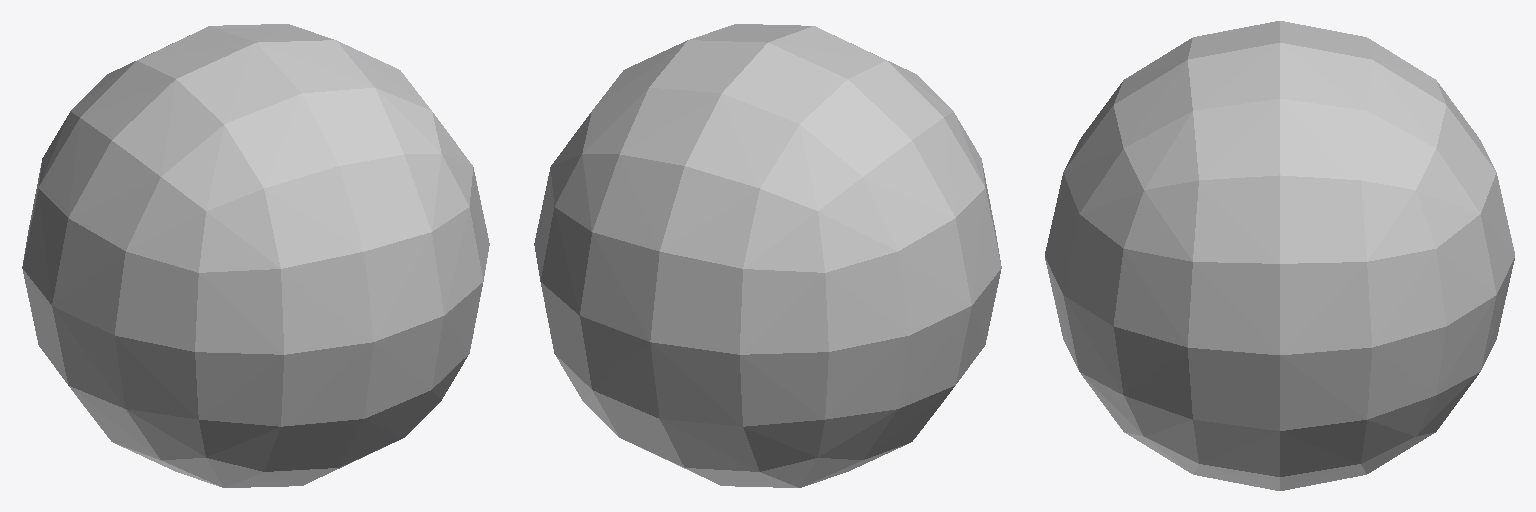
Rendered from flatsphere.obj.
3 renders of one model, left to right at view 1: azimuth 30°, elevation 25°; view 2: azimuth 150°, elevation 25°; view 3: azimuth 270°, elevation 25°, orthographic.
Visible parts, largest first — view 1: Cube; view 2: Cube; view 3: Cube.
Boxes of the visible parts, <box> form: Cube: <box>22,24,489,487</box>; Cube: <box>534,24,1001,487</box>; Cube: <box>1045,21,1514,490</box>.
Bounding box in the file's own units: 2 × 2 × 2.